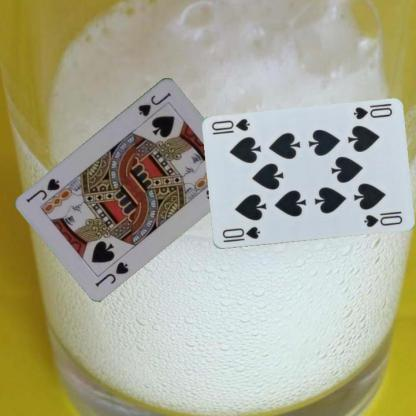10s: (220, 224, 261, 244), (350, 104, 394, 120)
Js: (135, 89, 173, 118), (92, 259, 130, 288)
